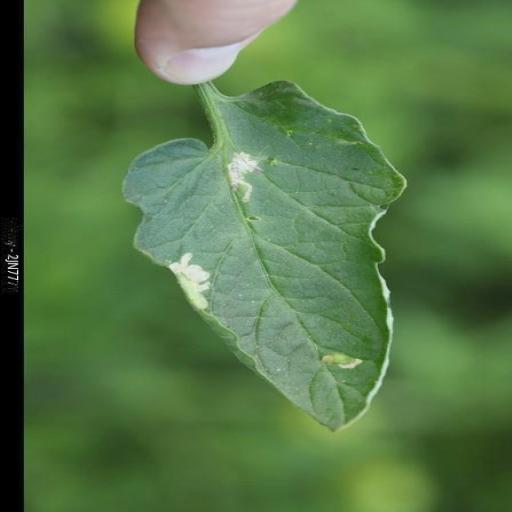disease_tomato: (118, 76, 410, 436)
